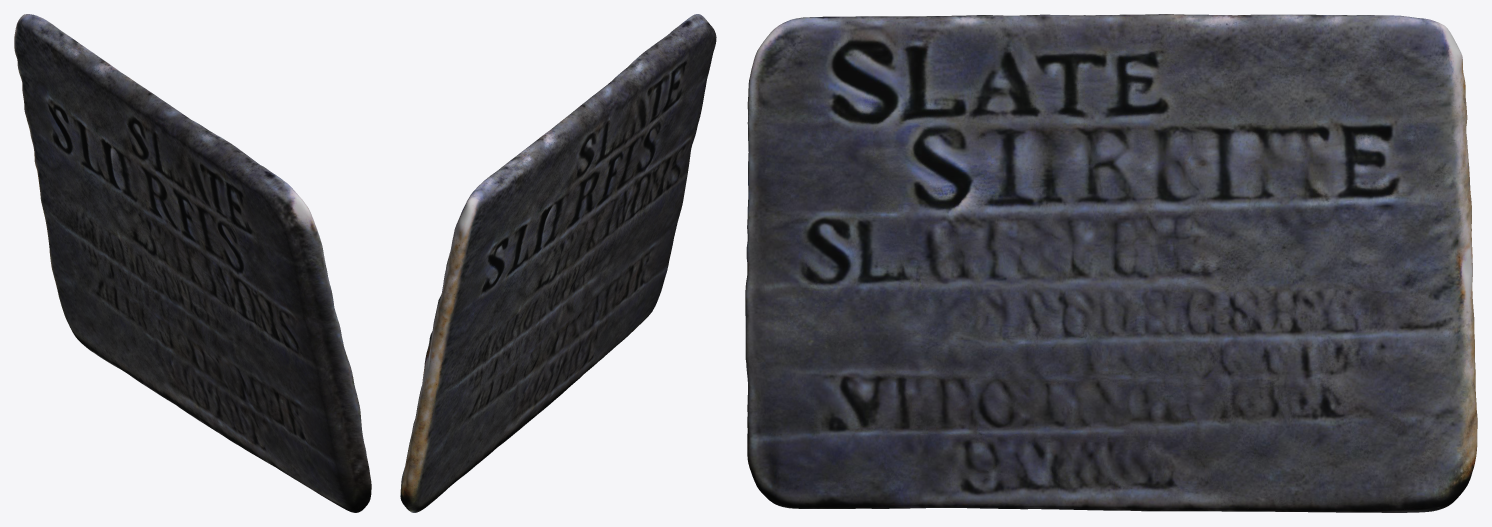
File: fdf638f420ba_slate_with_words.fbx
3 renders of one model, left to right at view 1: azimuth 30°, elevation 25°; view 2: azimuth 150°, elevation 25°; view 3: azimuth 270°, elevation 25°, orthographic. The views are drawn at different scales.
Visible parts, largest first — view 1: high_poly; view 2: high_poly; view 3: high_poly.
Part boxes in pixels (<box>): high_poly: <box>14,14,371,512</box>; high_poly: <box>400,14,716,512</box>; high_poly: <box>745,14,1477,512</box>.
Bounding box in the file's own units: 20.29 × 69.81 × 100.
